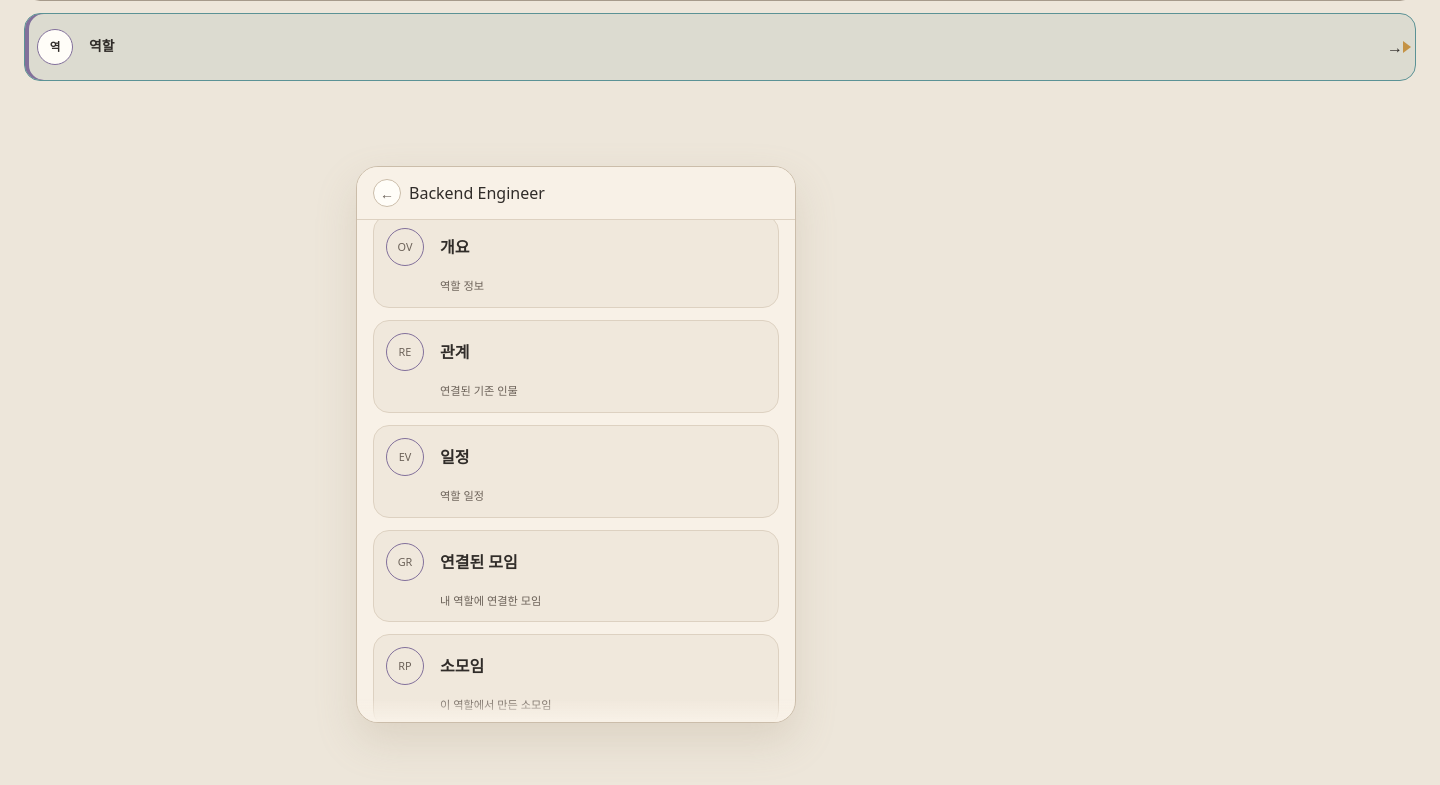
Test case: 실제 Role shell을 사용할 때 › 일정 화면을 열면 › 일정 더블클릭은 생성 폼을 열고 실패해도 입력을 유지한다
(page scrolled)
Click the button "EV 일정 역할 일정" at (405, 457), box left=373, top=425, right=779, bottom=518
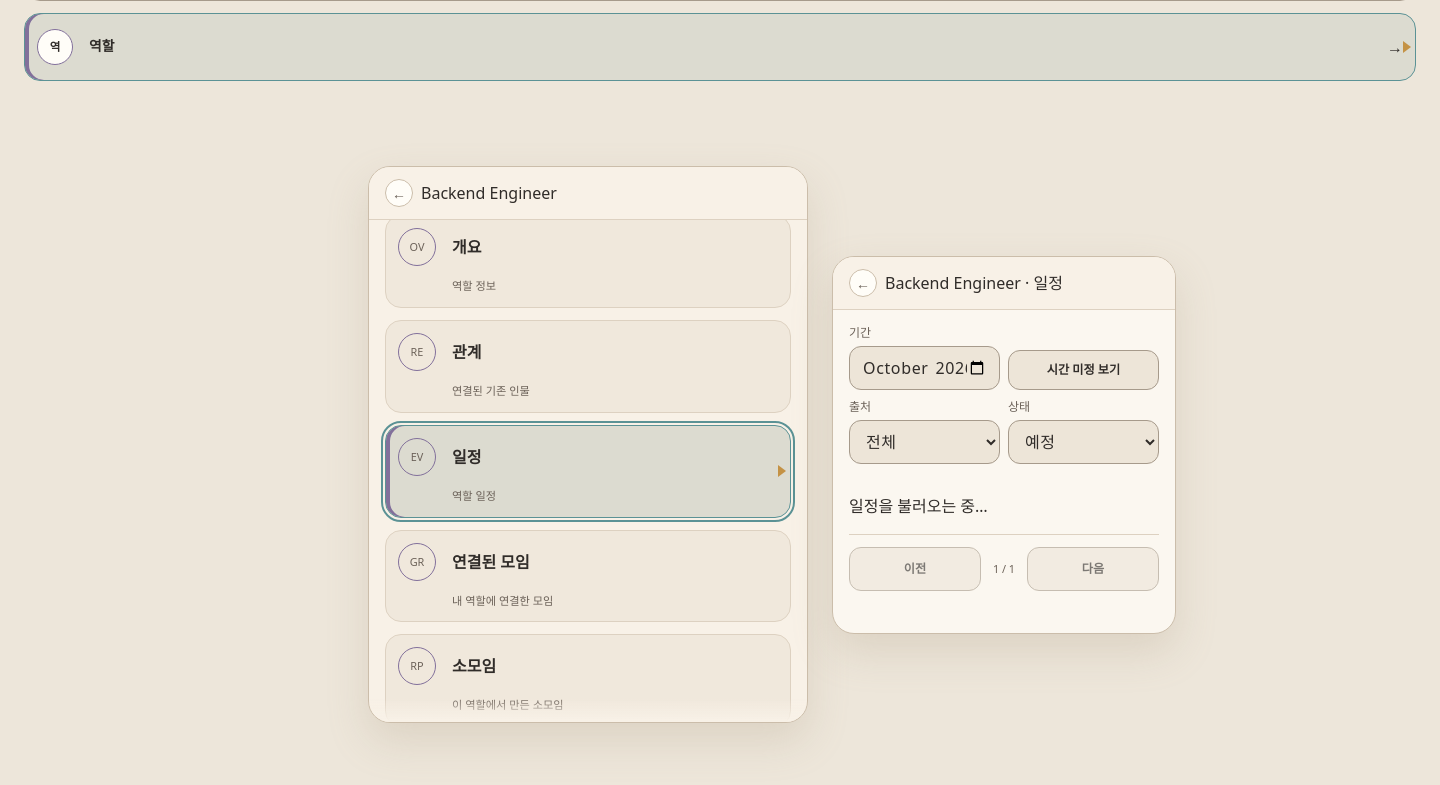
Press Enter in the button "EV 일정 역할 일정", box left=385, top=425, right=791, bottom=518
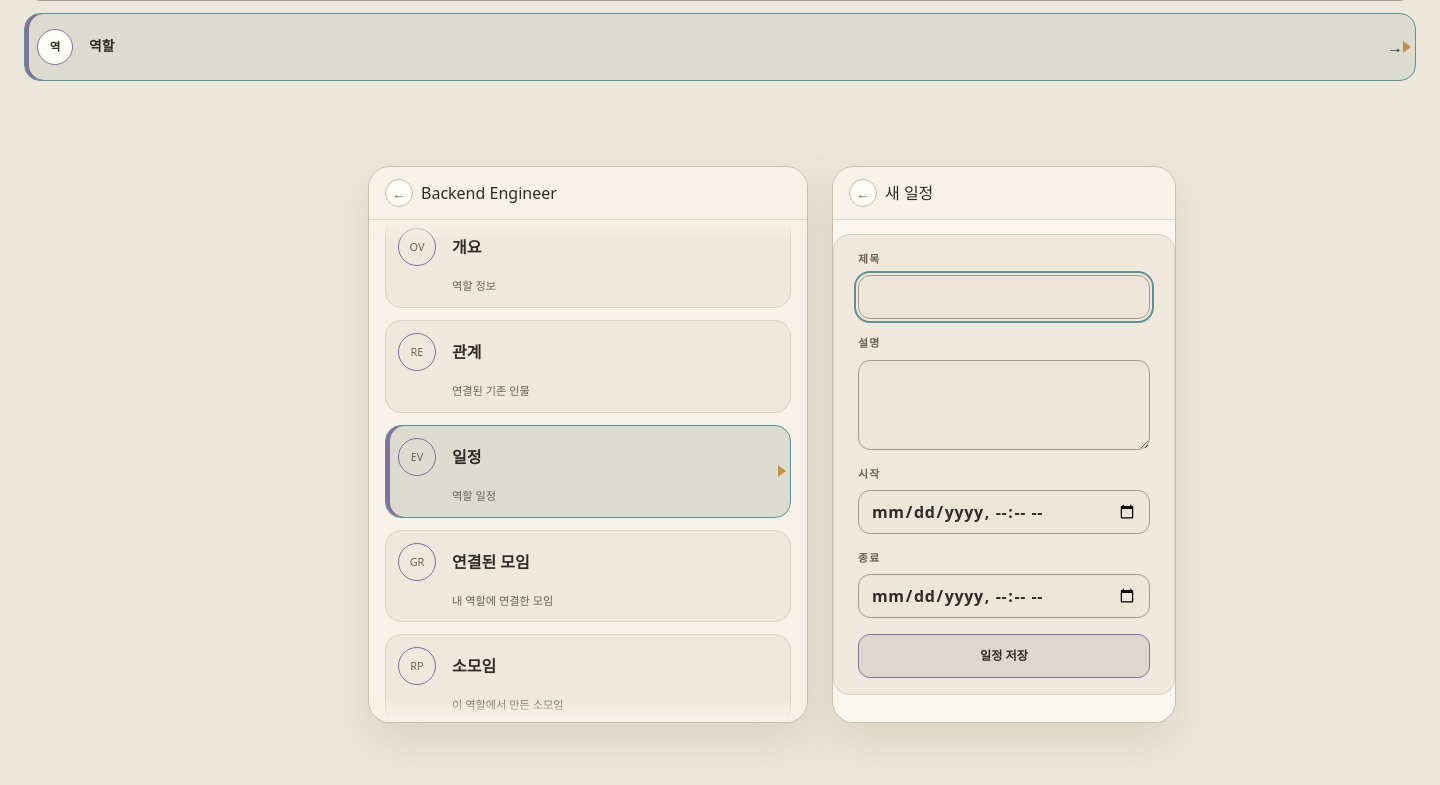
Now the field labelled "제목" is shown
Type "New event" into the field labelled "제목" at (1004, 297), box left=858, top=275, right=1150, bottom=319
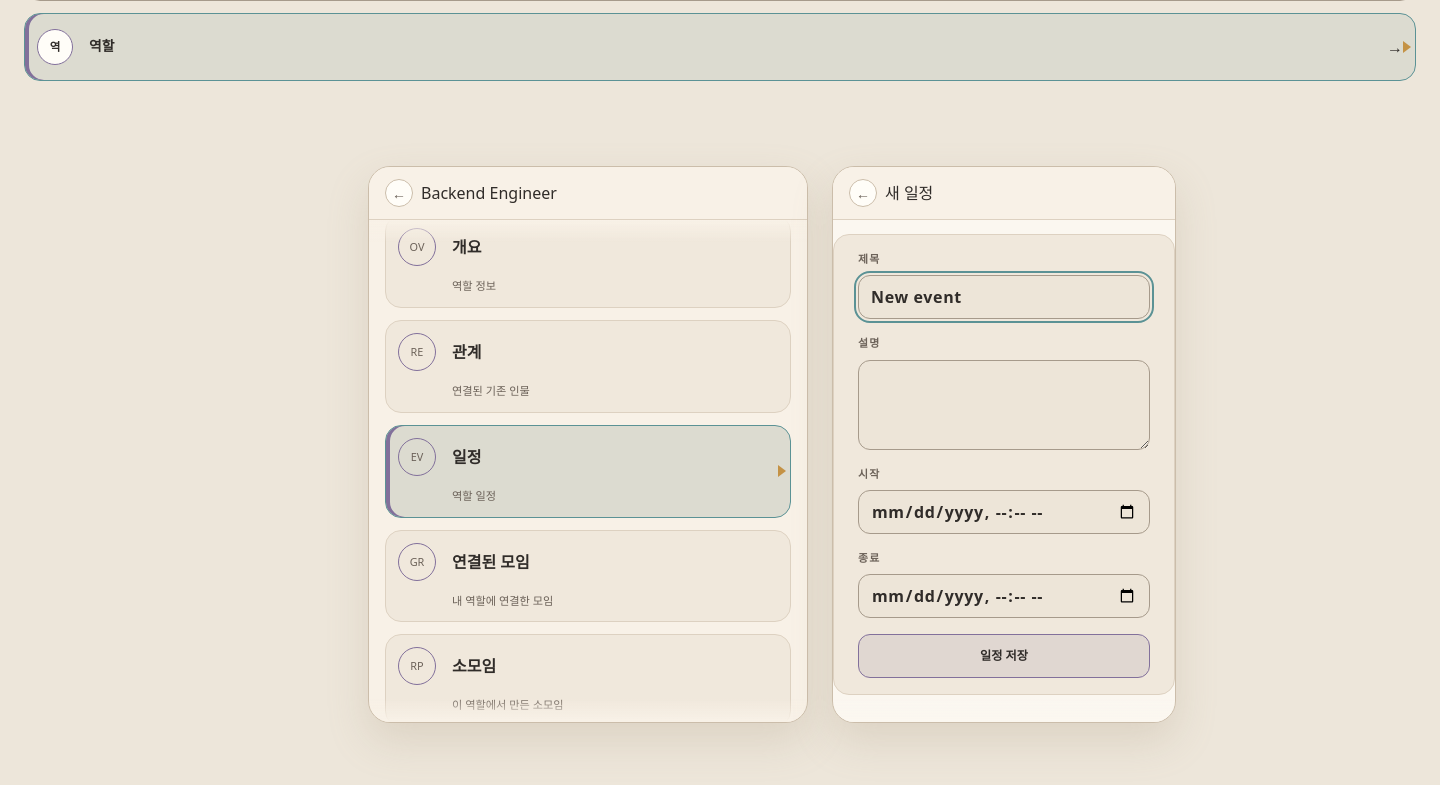
Click the button "일정 저장" at (1004, 656), box left=858, top=634, right=1150, bottom=678
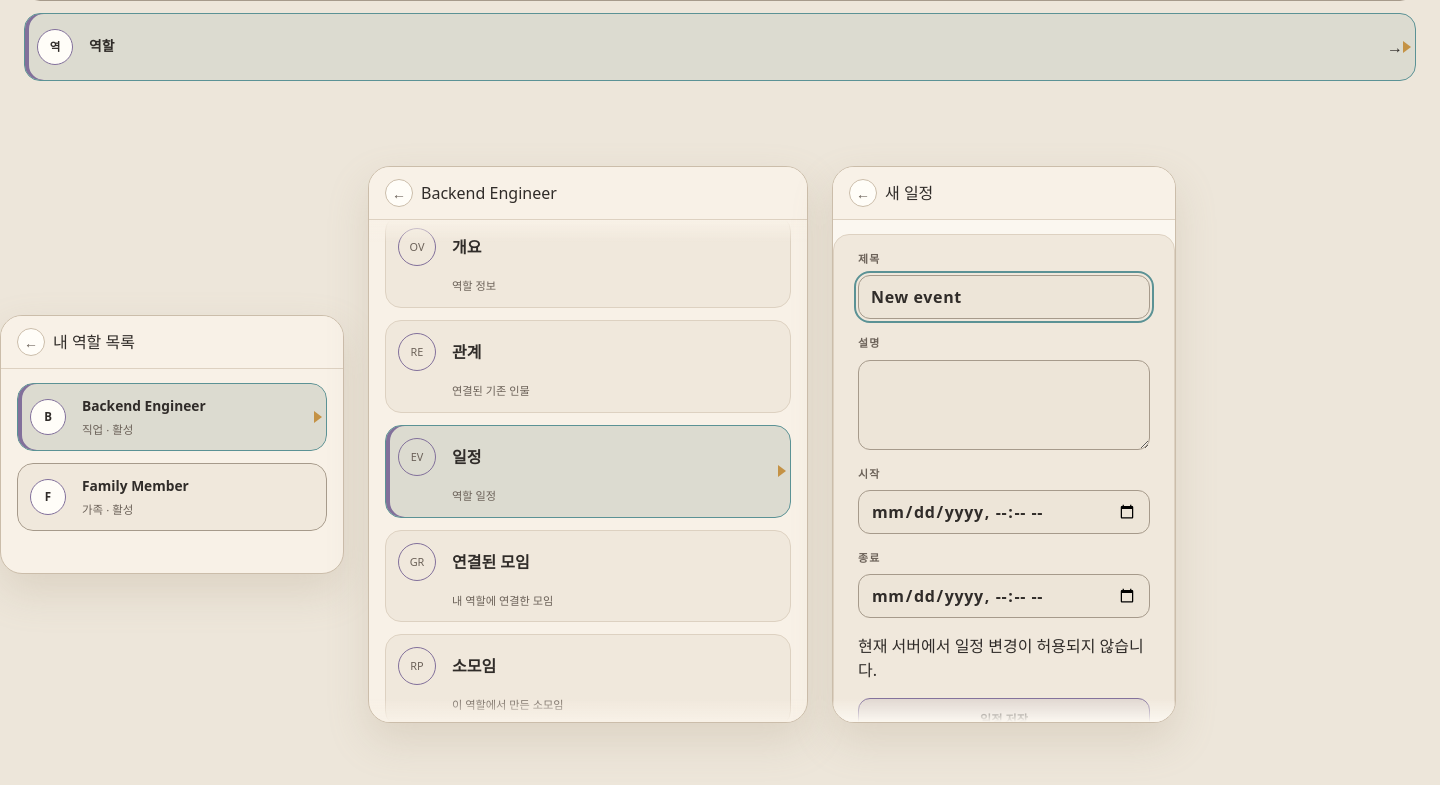
Now the message reads "현재 서버에서 일정 변경이 허용되지 않습니다.", box left=858, top=635, right=1144, bottom=681
